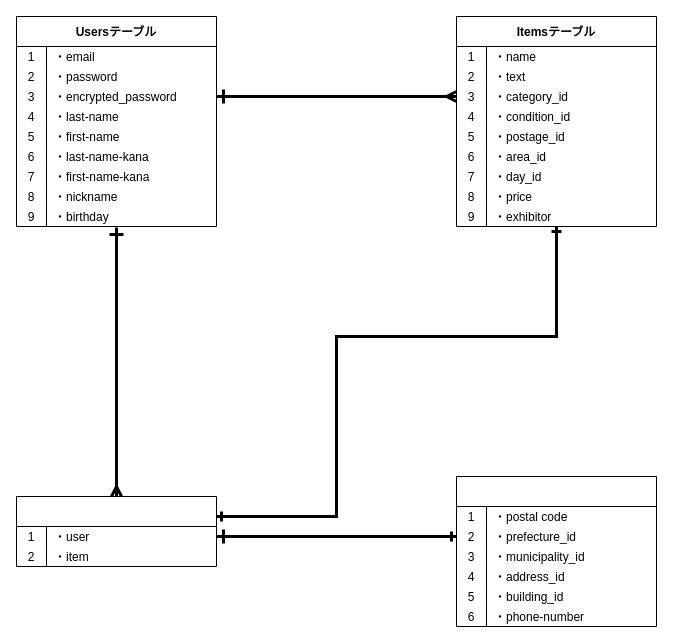
Image size: 673x643. Some labels were removed from this diagram. The box of each missing label's shape, as (x1, y1, x2, y2) in pixels:
Addressesテーブル: (456, 476, 656, 626)
Purchasesテーブル: (16, 496, 216, 566)
